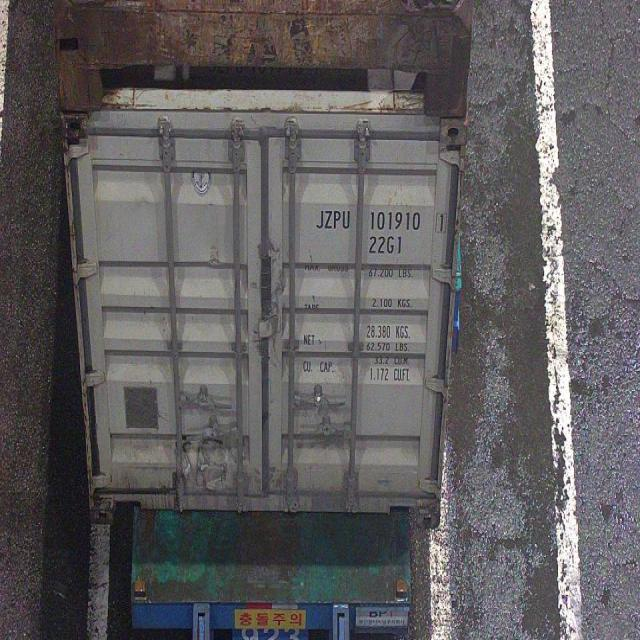ISO: (366, 234, 404, 254)
container_number: (318, 210, 446, 232)
